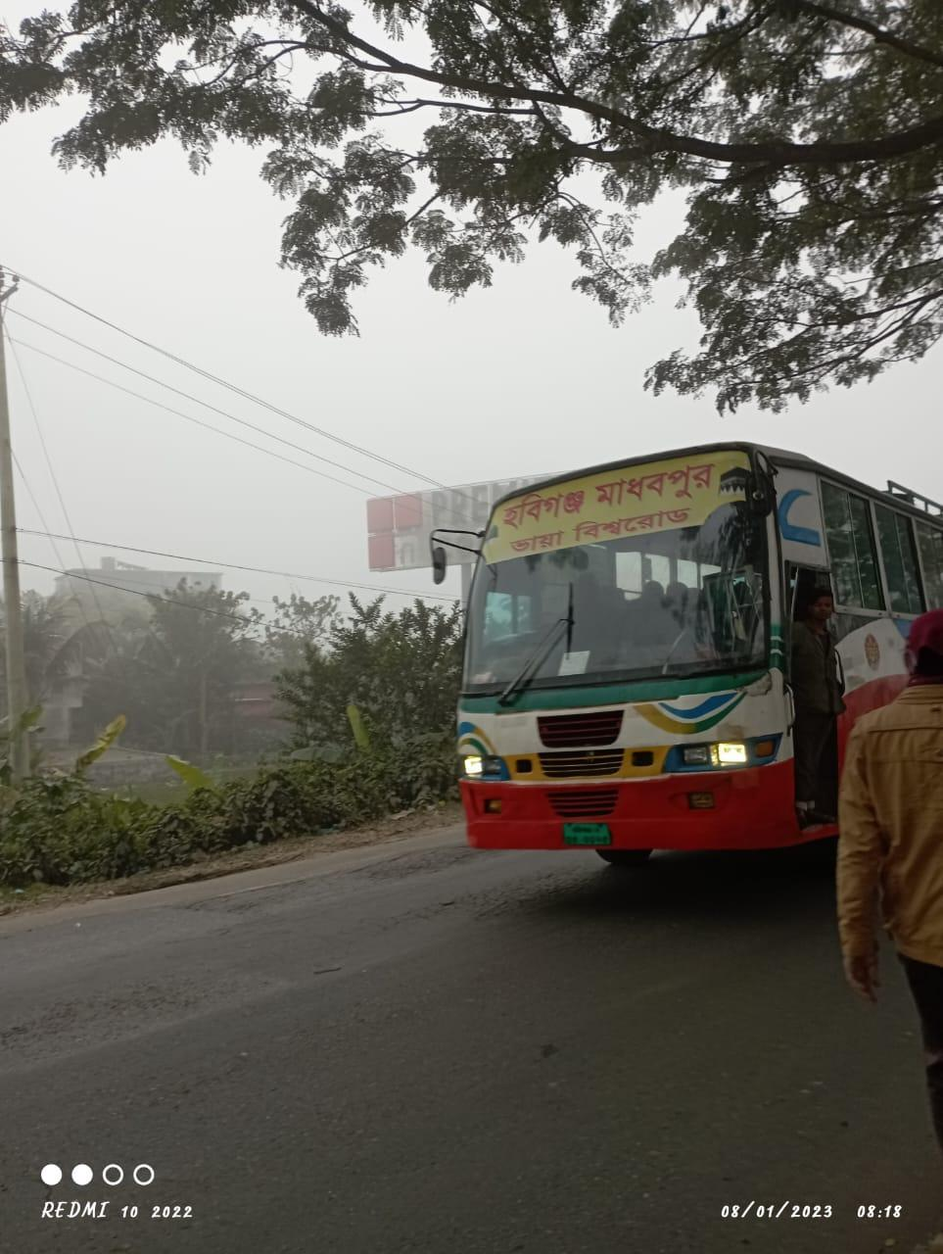Bus: (421, 439, 926, 878)
